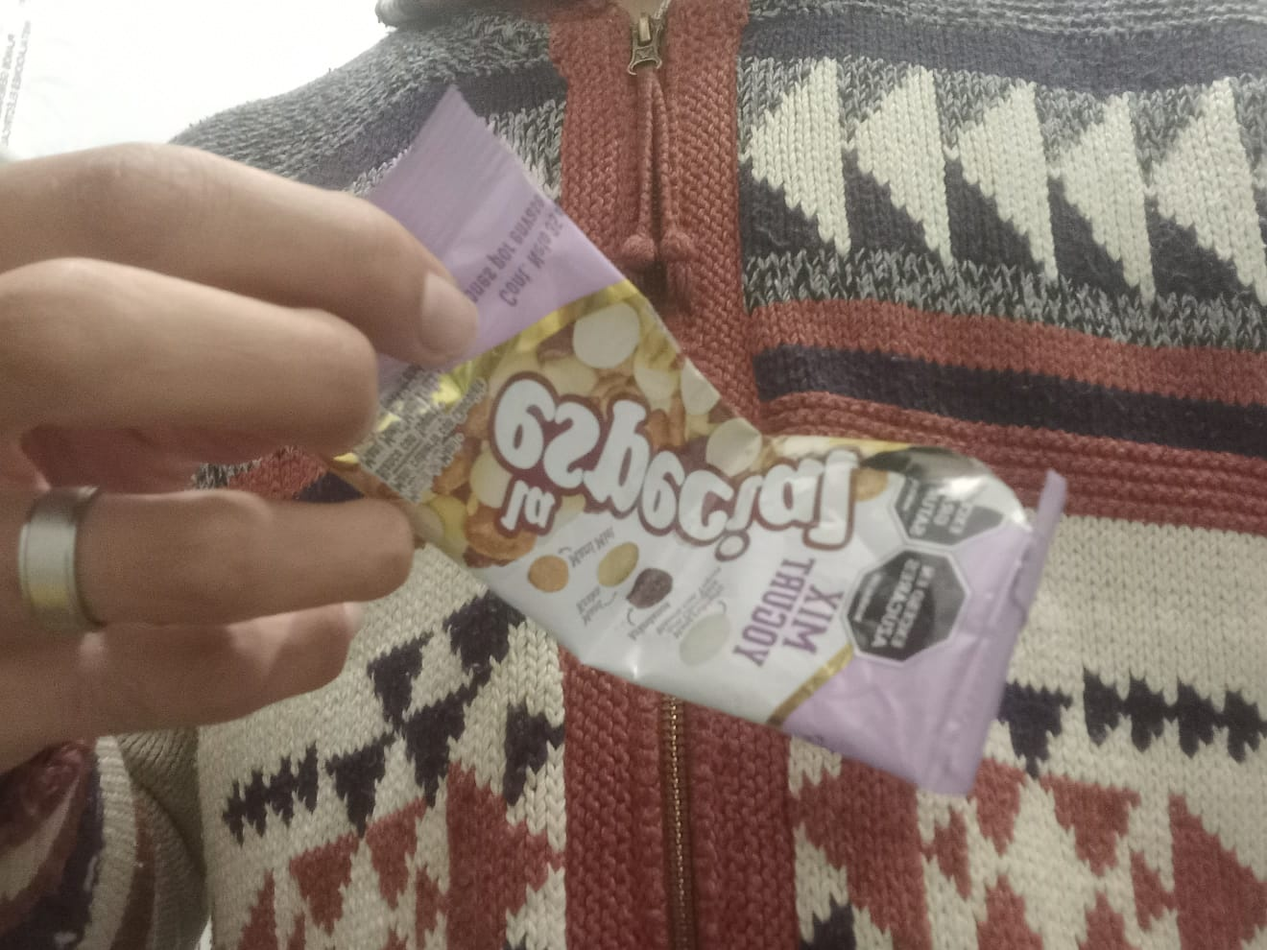Ordinario: (301, 77, 1066, 796)
